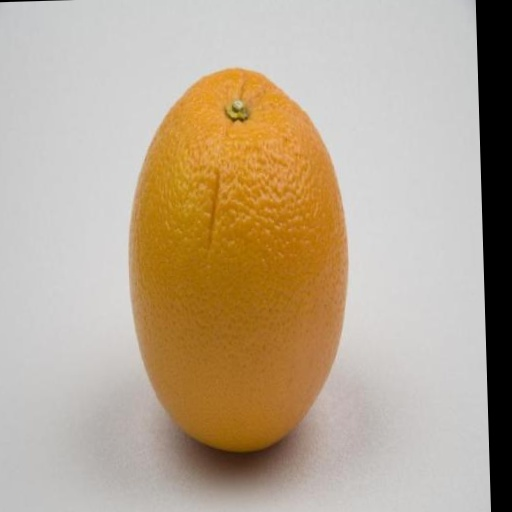fruit: (130, 69, 348, 451)
